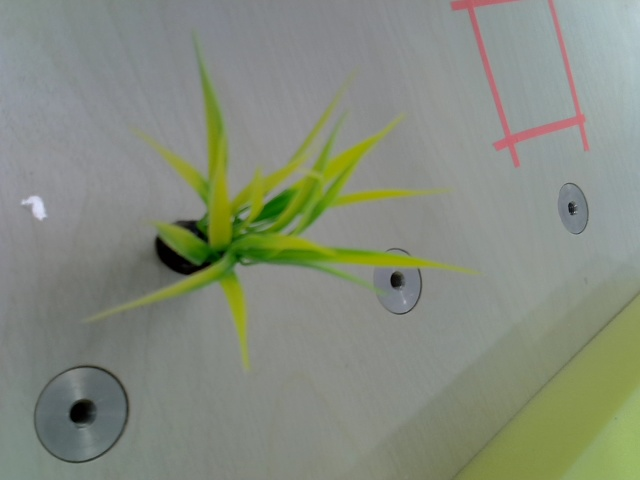해바라기새싹: (96, 49, 464, 371)
